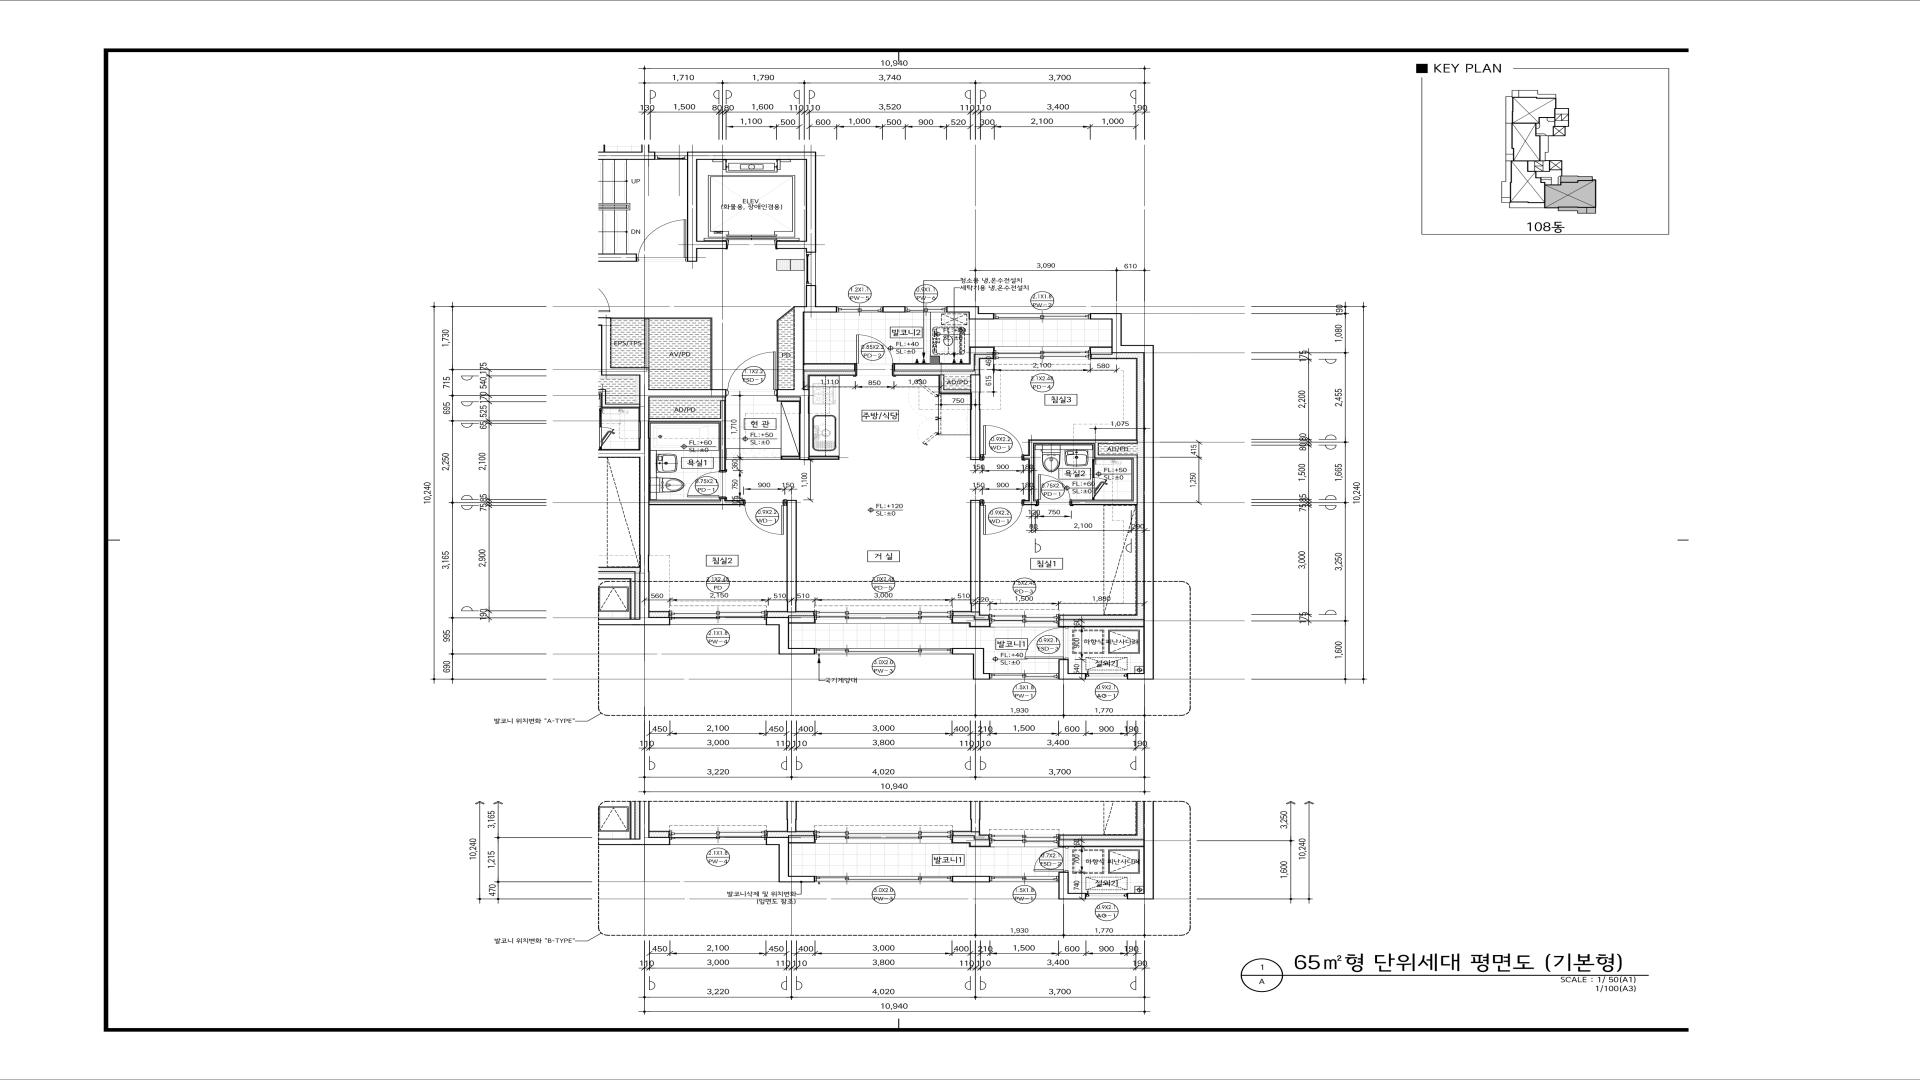background: (0, 0, 1920, 1079)
door: (727, 351, 777, 396), (637, 219, 687, 261), (856, 335, 893, 376), (982, 425, 1023, 460), (981, 500, 1023, 534), (745, 500, 786, 534), (1038, 475, 1069, 505), (687, 472, 725, 497)
wall: (601, 318, 727, 625), (1091, 314, 1154, 679), (687, 152, 816, 261), (1023, 440, 1137, 505), (612, 318, 712, 389), (777, 286, 836, 397), (649, 401, 725, 471), (782, 397, 839, 460), (893, 347, 993, 372), (766, 617, 815, 654), (777, 307, 794, 389), (952, 649, 989, 679), (787, 500, 796, 612), (971, 500, 980, 612), (971, 375, 980, 459), (649, 498, 744, 505), (947, 306, 993, 319), (939, 375, 971, 393), (1059, 620, 1145, 626), (597, 152, 654, 160), (952, 616, 990, 626), (803, 364, 856, 371), (597, 253, 637, 261), (777, 241, 806, 249), (698, 241, 727, 249), (789, 616, 814, 624), (645, 319, 649, 368), (1059, 673, 1085, 679), (1091, 347, 1112, 355), (884, 306, 905, 313), (1059, 659, 1068, 673)
window: (814, 611, 952, 624), (670, 611, 766, 625), (994, 347, 1091, 359), (815, 647, 952, 654), (990, 615, 1059, 628), (994, 314, 1091, 319), (990, 673, 1059, 679), (804, 252, 816, 285), (836, 306, 884, 313), (905, 306, 947, 313), (655, 152, 687, 160), (1085, 674, 1127, 679)
